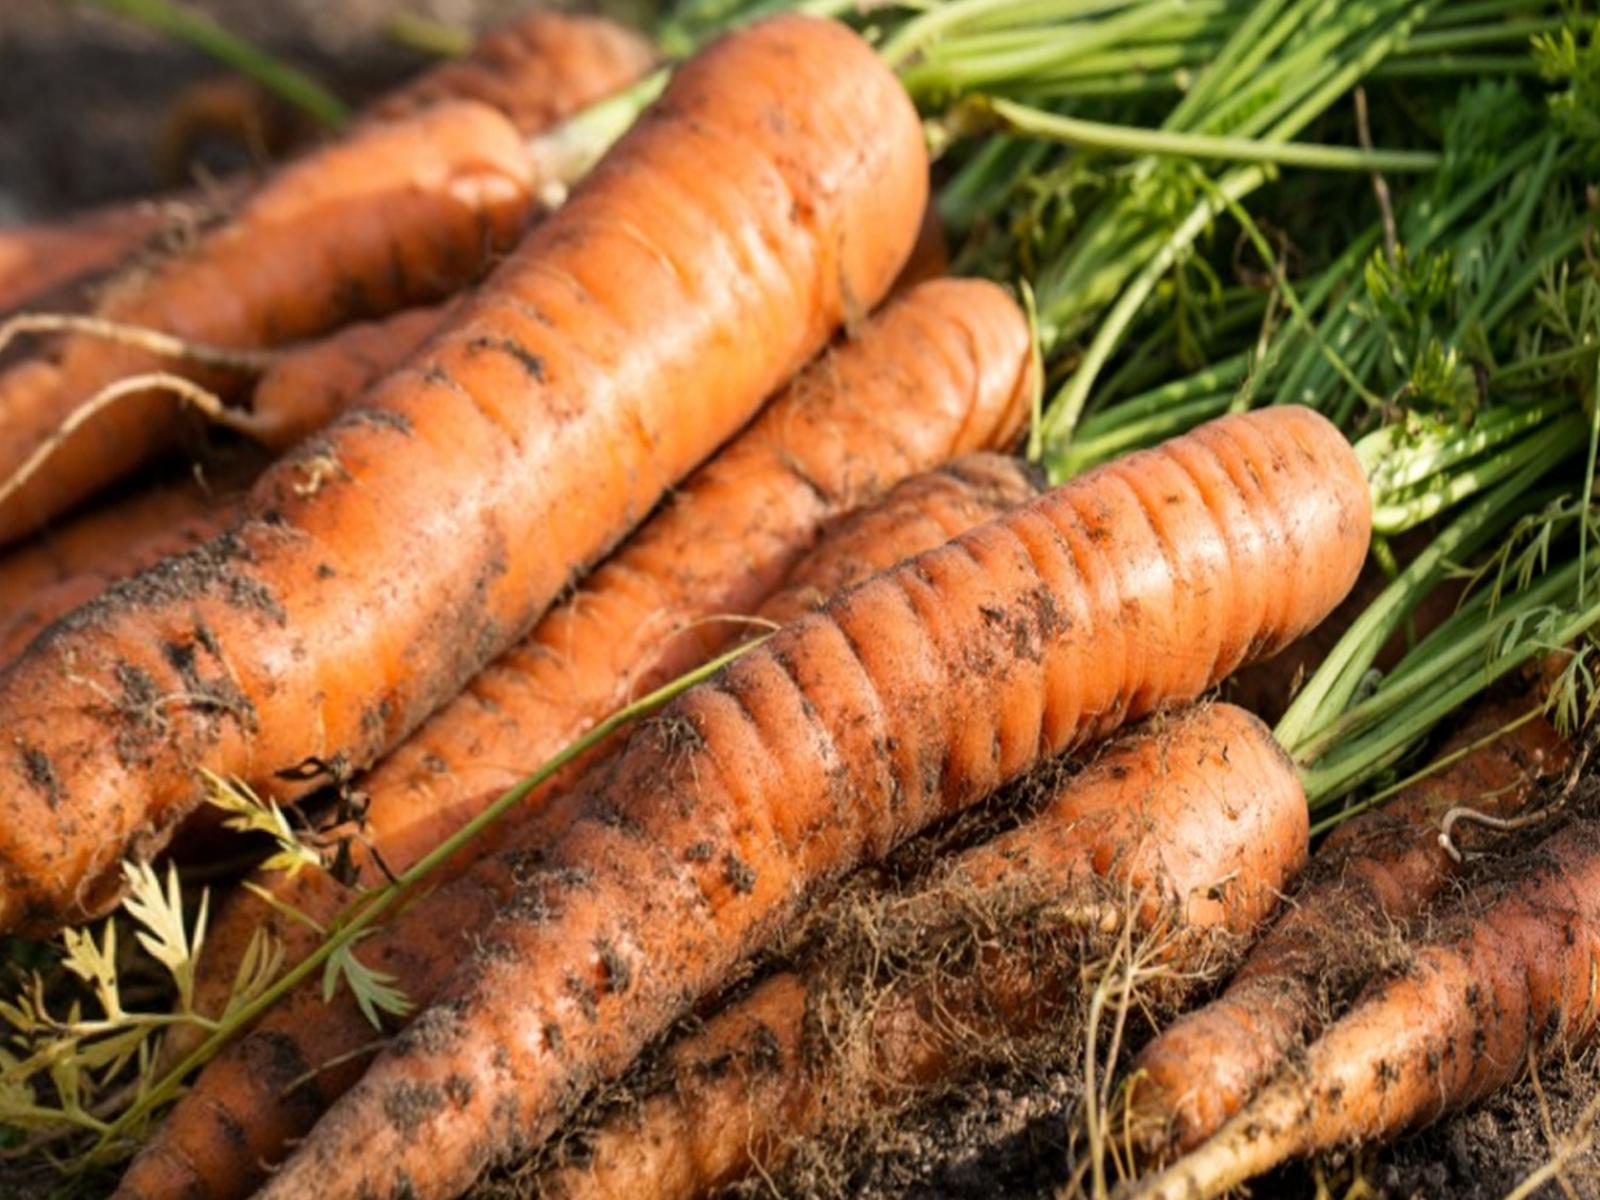carrot: (60, 13, 1550, 1136)
